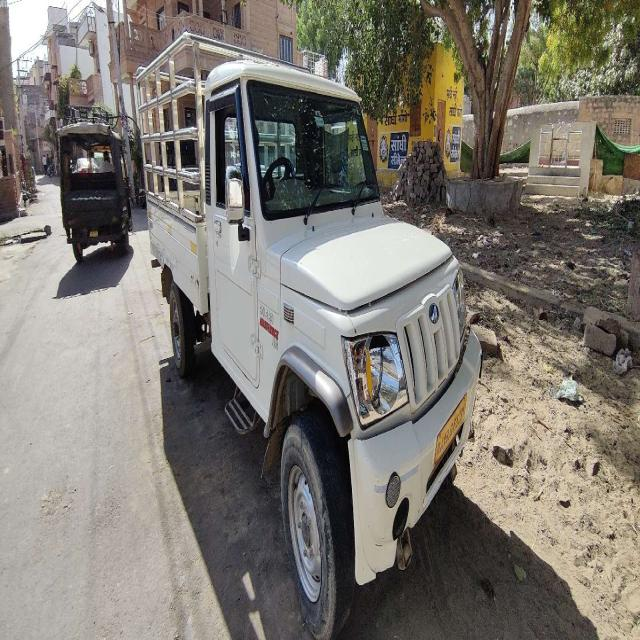light_vehicle: (140, 65, 482, 528)
